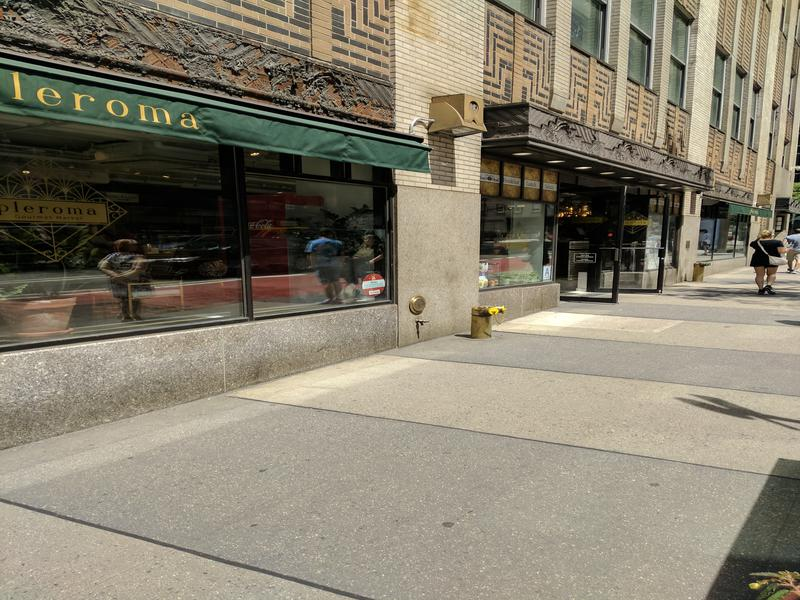door: (555, 181, 621, 306), (630, 181, 671, 298)
